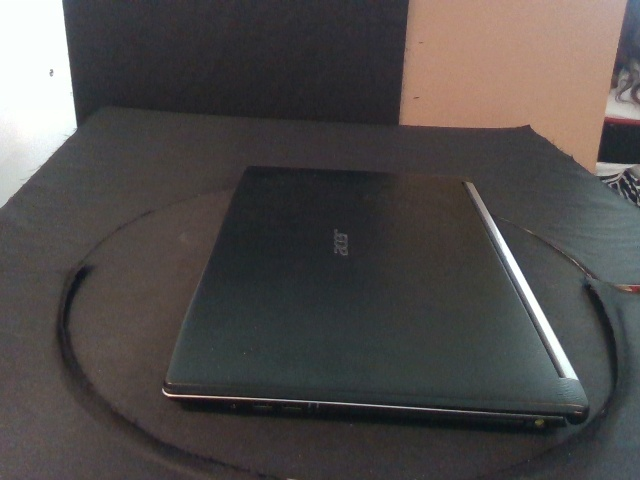laptop: (159, 164, 590, 433)
